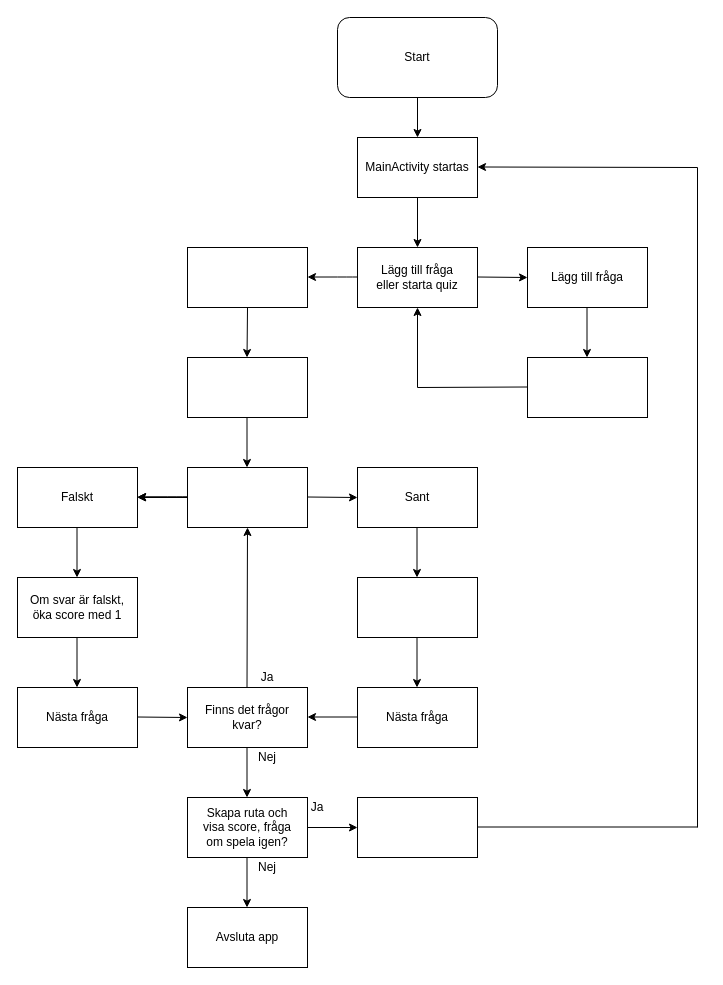
Image size: 723x985. Some labels were removed from this diagram. Each missing label, with the box of its shape:
Avsluta nuvarande aktivitet: (356, 796, 478, 858)
Fråga och svar inläses och sparas: (526, 356, 648, 418)
Om svar är sant, öka score med 1: (356, 576, 478, 638)
QuizActivity startas, frågor och svar skickas med: (186, 356, 308, 418)
Starta quiz: (186, 246, 308, 308)
Visa fråga, välj sant eller falskt: (186, 466, 308, 528)
